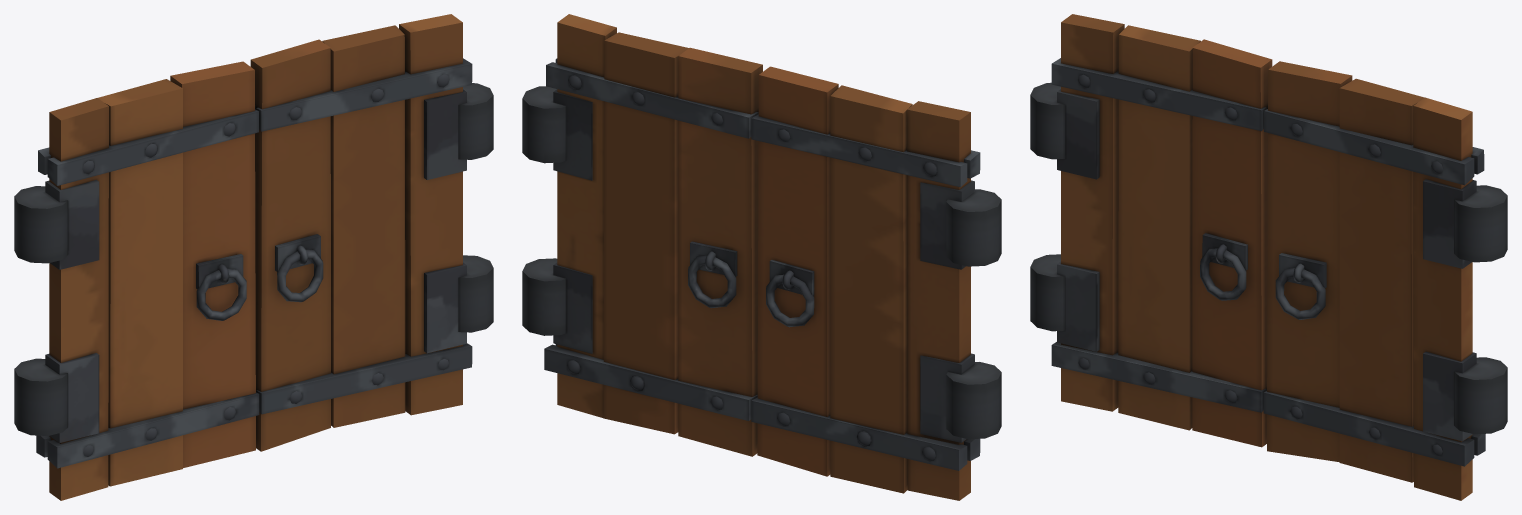
File: 1P_PorteHaute.FBX
The picture shows the model from 3 angles, left to right: view 1: azimuth 30°, elevation 25°; view 2: azimuth 150°, elevation 25°; view 3: azimuth 330°, elevation 25°; orthographic projection.
Visible parts, largest first — view 1: 1P_PorteHaute; view 2: 1P_PorteHaute; view 3: 1P_PorteHaute.
Part boxes in pixels (x1,y1,x2,y2): 1P_PorteHaute: (14,14,493,500); 1P_PorteHaute: (522,14,1001,500); 1P_PorteHaute: (1030,14,1507,500).
Size of the model in its own units: 5.89 by 4.59 by 0.644.
